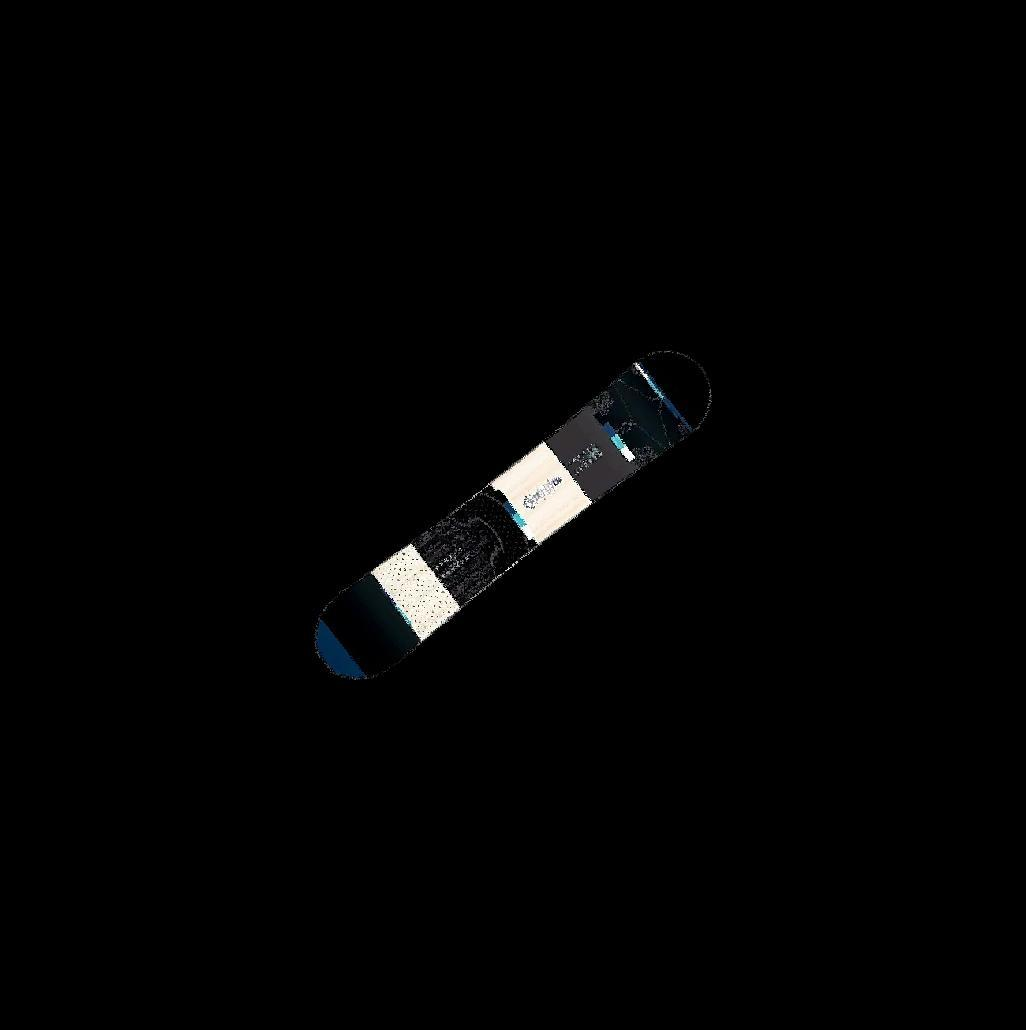Snowboard: (282, 318, 739, 698)
